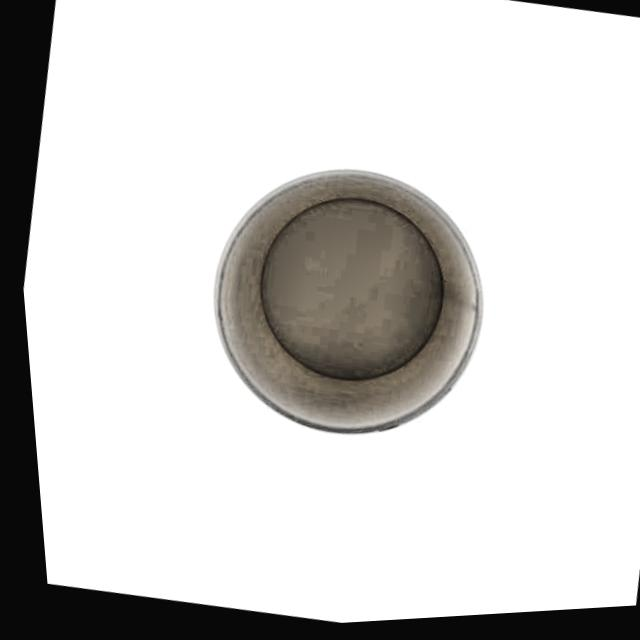Cup: (166, 138, 520, 472)
